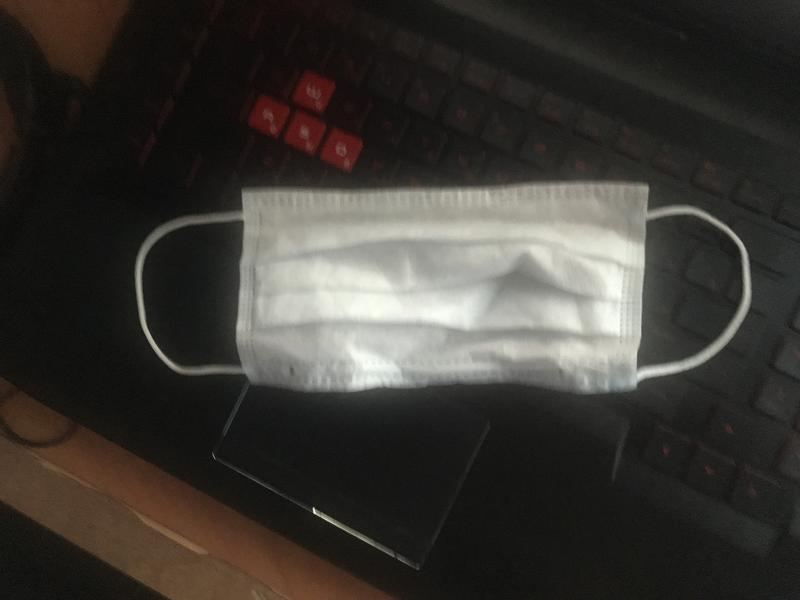medical_mask: (137, 182, 752, 389)
